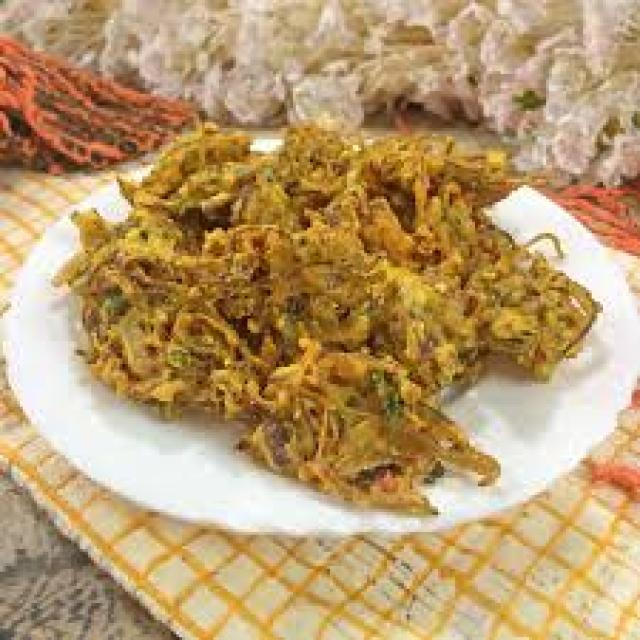BAJI: (54, 124, 600, 514)
